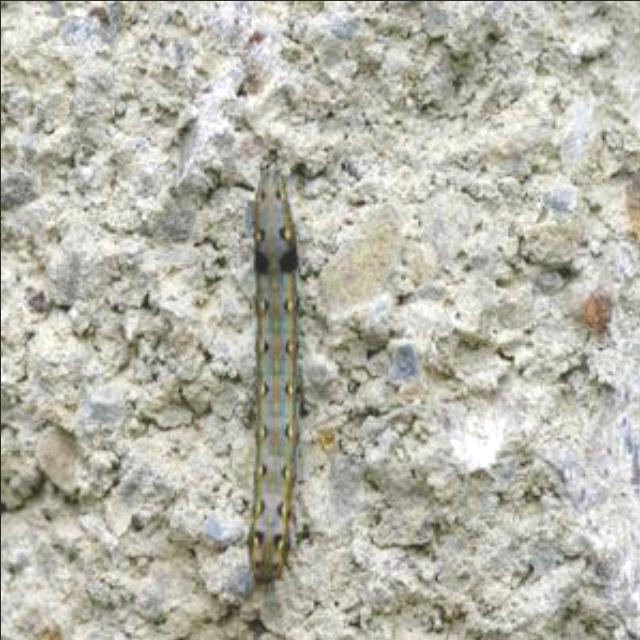Tobacco cutworm: (124, 100, 390, 602)
